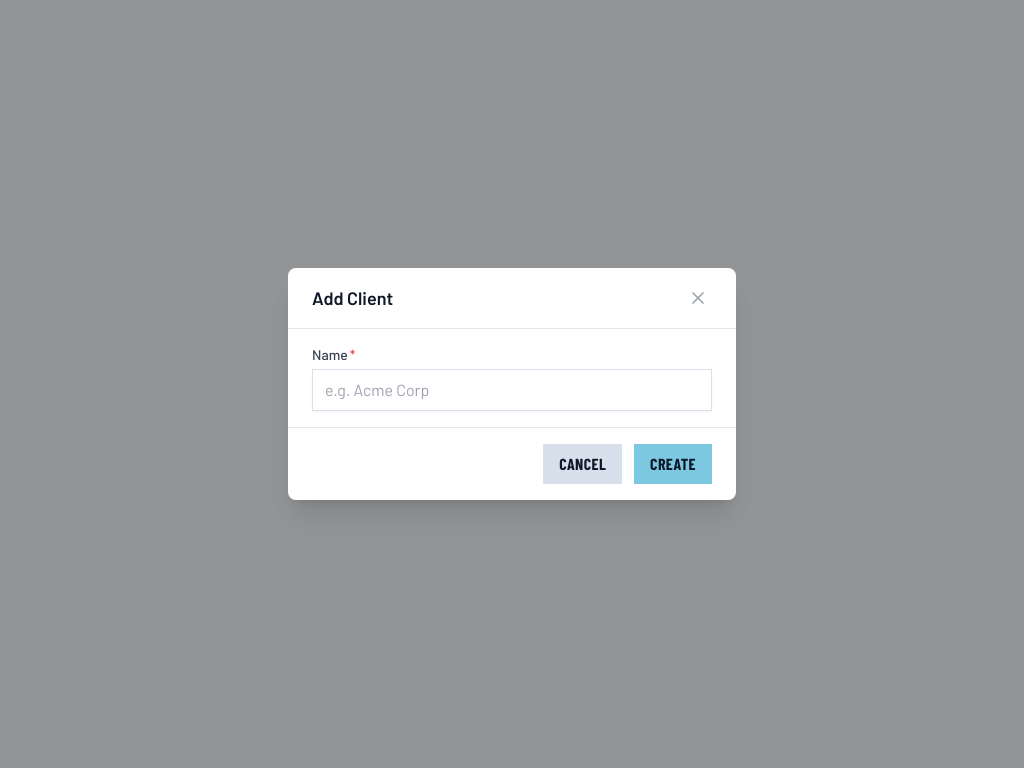
Test: ClientForm › shows validation error for empty name
The image size is (1024, 768).
Click the button "Create" at (673, 464), box [634,444,712,484]
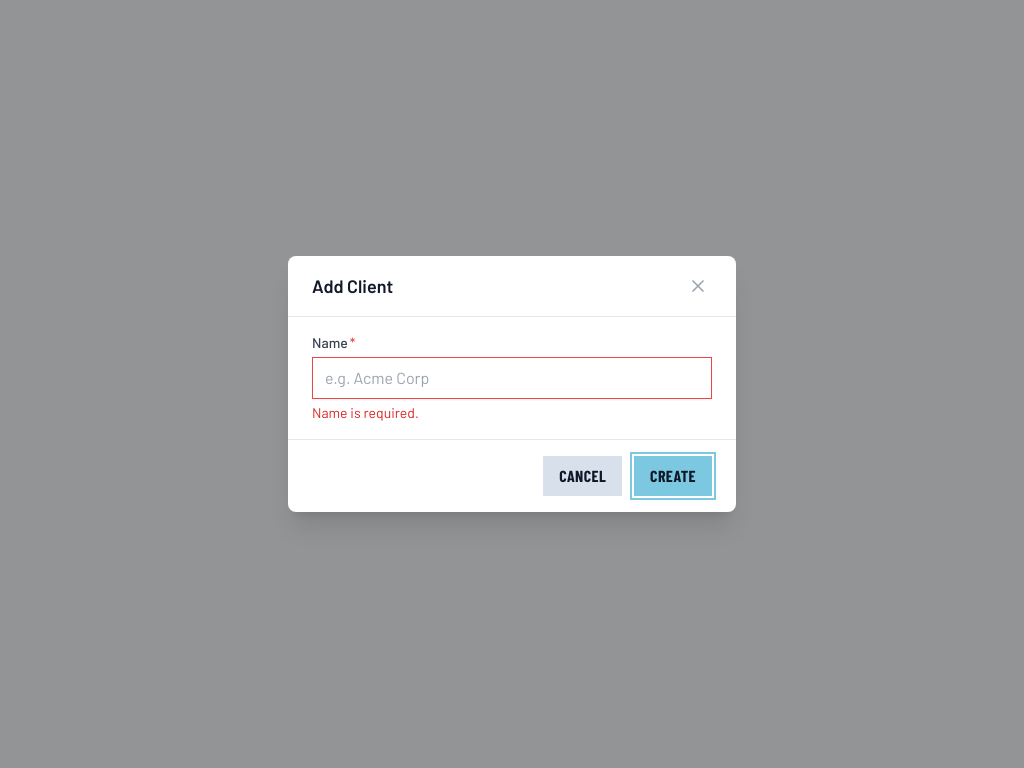
Result: the message reads "Name is required." at [312,404,419,421]
